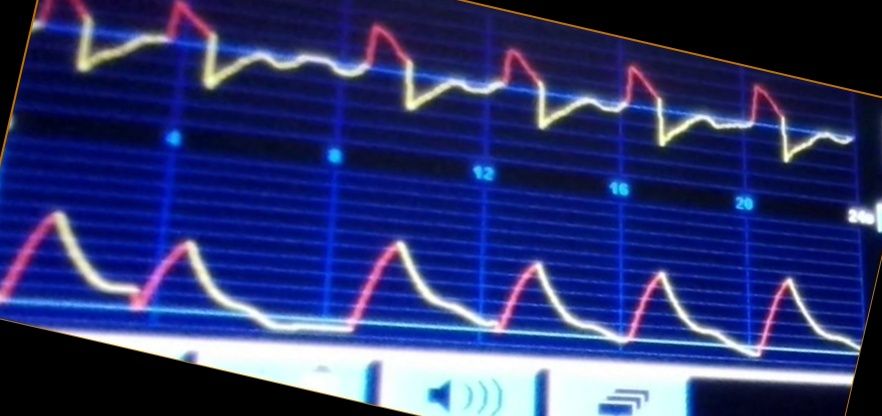Ineffective_effort Flow: (36, 1, 854, 162)
Ineffective_effort Volume: (1, 209, 853, 359)
